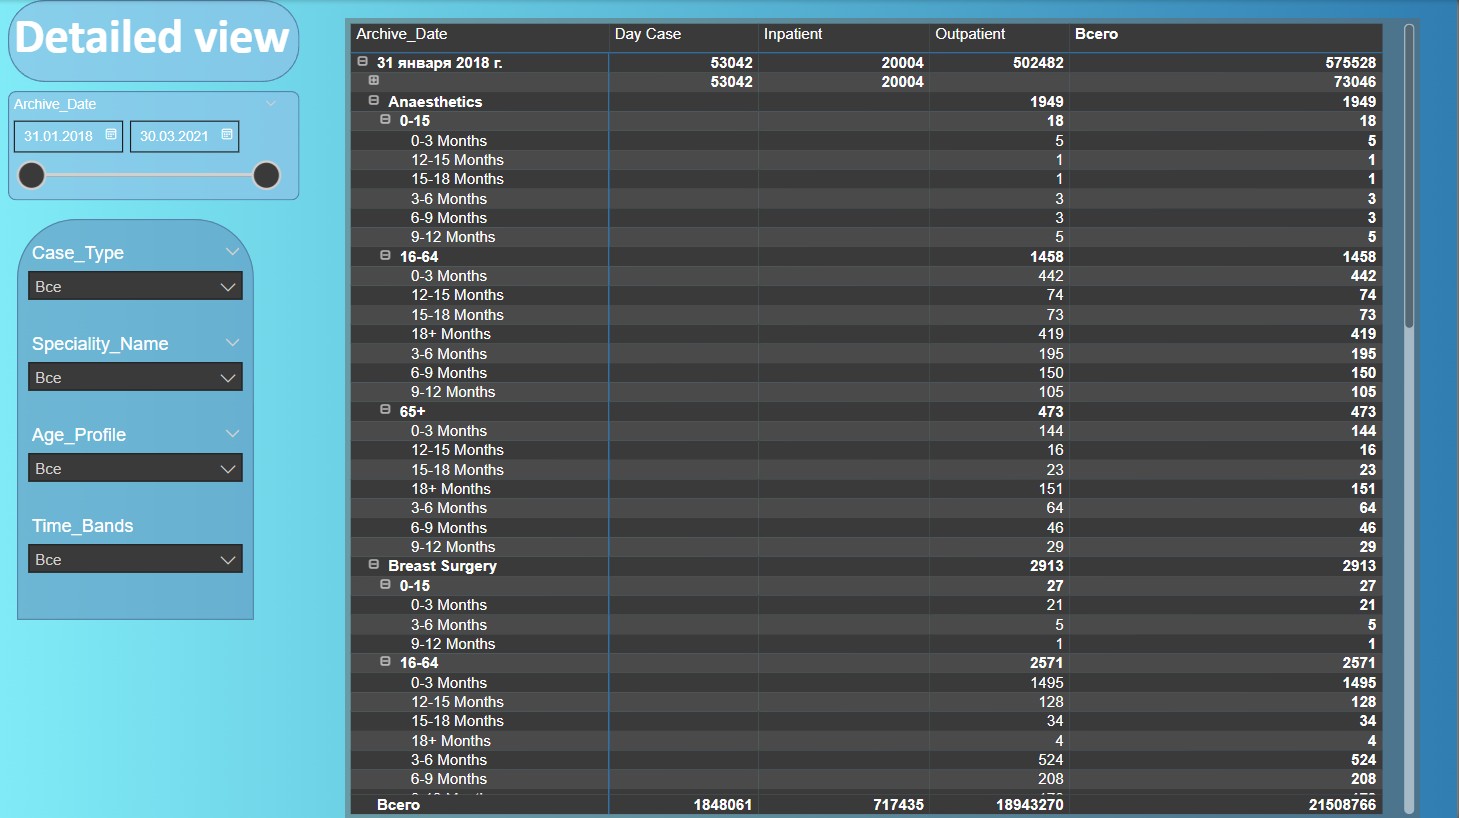

The page's visual inventory and layout, read from the dashboard file:
{"tool":"powerbi","page":{"name":"Detail","canvas":[1280,720],"ordinal":1},"visuals":[{"type":"shape","box":[8,80,256,96],"z":0},{"type":"shape","box":[16,192,208,352],"z":1000},{"type":"shape","box":[8,0,256,72],"z":2000},{"type":"slicer","fields":{"Values":["All_Data.Archive_Date"]},"box":[0,80,256,96],"z":3000},{"type":"slicer","fields":{"Values":["All_Data.Case_Type"]},"box":[16,208,208,64],"z":4000},{"type":"slicer","fields":{"Values":["All_Data.Speciality_Name"]},"box":[16,288,208,64],"z":5000},{"type":"textbox","box":[8,0,272,64],"z":6000},{"type":"slicer","fields":{"Values":["All_Data.Age_Profile"]},"box":[16,368,208,64],"z":7000},{"type":"slicer","fields":{"Values":["All_Data.Time_Bands"]},"box":[16,448,208,64],"z":8000},{"type":"pivotTable","fields":{"Rows":["All_Data.Archive_Date","All_Data.Speciality_Name","All_Data.Age_Profile","All_Data.Time_Bands"],"Columns":["All_Data.Case_Type"],"Values":["Sum(All_Data.Total)"]},"box":[304,16,944,704],"z":9000}]}

Visuals, with their boxes on the page's 1280x720 design canvas (x1, y1, x2, y2). These are canvas units, not pixel positions in the 1459x818 screenshot, which may show the page scaled, cropped or inside an application window:
shape: <box>8,80,264,176</box>
shape: <box>16,192,224,544</box>
shape: <box>8,0,264,72</box>
slicer - All_Data.Archive_Date: <box>0,80,256,176</box>
slicer - All_Data.Case_Type: <box>16,208,224,272</box>
slicer - All_Data.Speciality_Name: <box>16,288,224,352</box>
textbox: <box>8,0,280,64</box>
slicer - All_Data.Age_Profile: <box>16,368,224,432</box>
slicer - All_Data.Time_Bands: <box>16,448,224,512</box>
pivotTable - All_Data.Archive_Date x All_Data.Speciality_Name: <box>304,16,1248,720</box>
